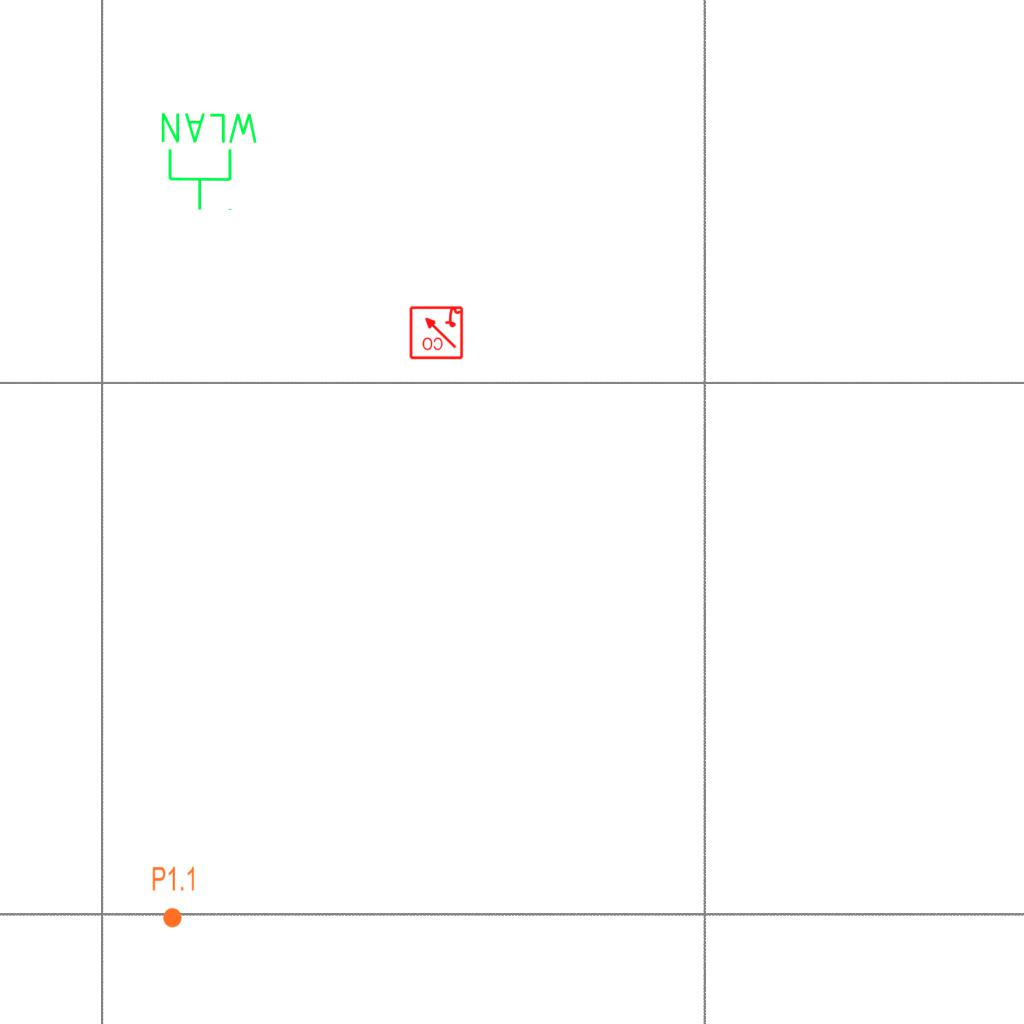Downlight_LED_Einbauleuchten_Flur: (151, 865, 197, 929)
ROA_Rauchmelder_optisch_mit_Signalgeber_(Sockelsirene): (408, 304, 464, 360)
WLAN: (157, 109, 262, 213)
